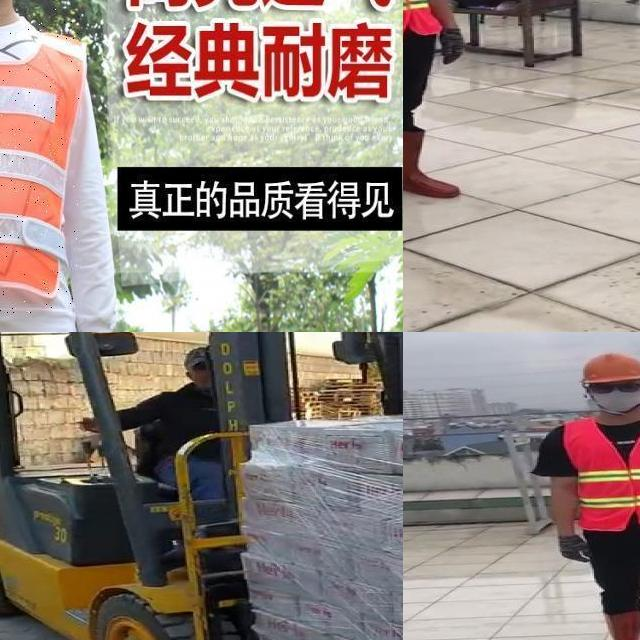BOOTS: (403, 125, 465, 203), (597, 611, 640, 640)
GLASS: (577, 385, 640, 397)
GLOVE: (555, 527, 596, 567), (439, 25, 468, 67)
HELMET: (576, 352, 640, 384)
VEST: (0, 7, 79, 313), (560, 412, 640, 531)
